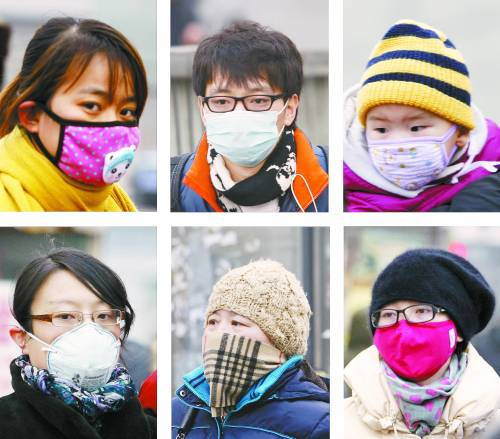face_mask: (41, 53, 141, 181), (29, 272, 118, 386), (202, 61, 283, 165), (365, 94, 455, 184), (374, 282, 456, 378), (202, 298, 273, 379)
